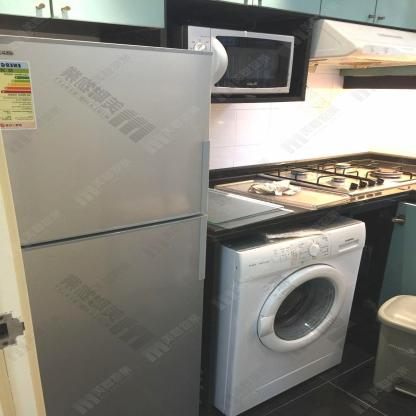Exhaust Hood: (307, 18, 416, 72)
Fridge: (0, 33, 209, 416)
Microwave: (183, 24, 296, 93)
Stove: (259, 158, 416, 195)
Washing Machine: (211, 212, 363, 416)
